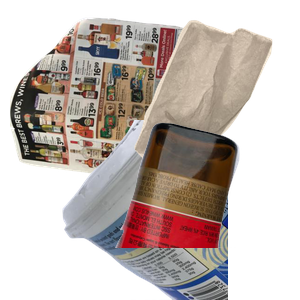glass: (113, 120, 300, 300)
paper: (10, 15, 196, 195)
plastic: (60, 120, 300, 300)
trash: (132, 17, 300, 177)
